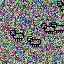sheep: (9, 29, 24, 41), (50, 21, 64, 33), (26, 36, 41, 47), (40, 23, 55, 34), (56, 0, 64, 13)
